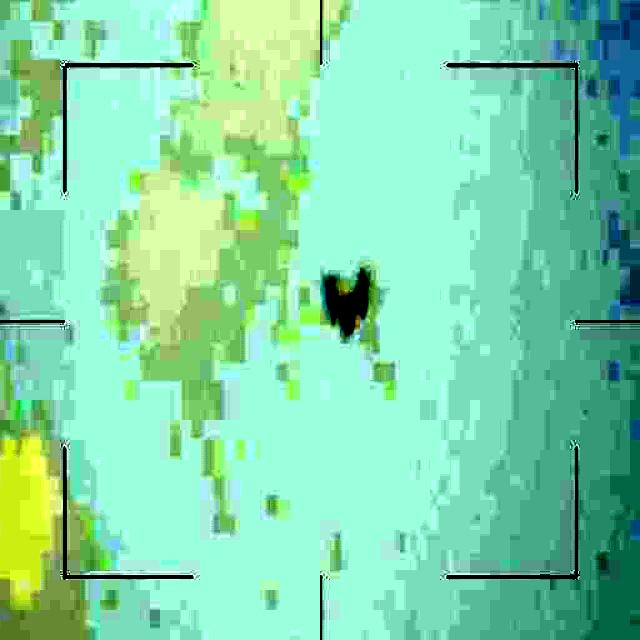bird: (321, 264, 375, 350)
